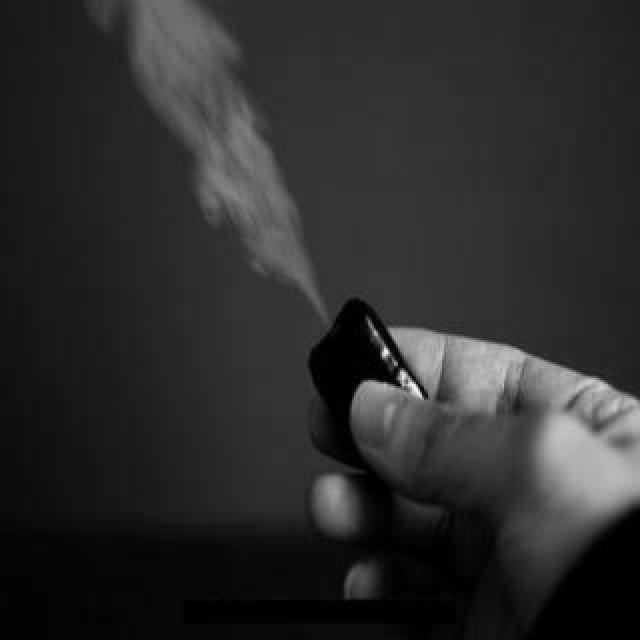Smoke: (127, 0, 346, 326)
